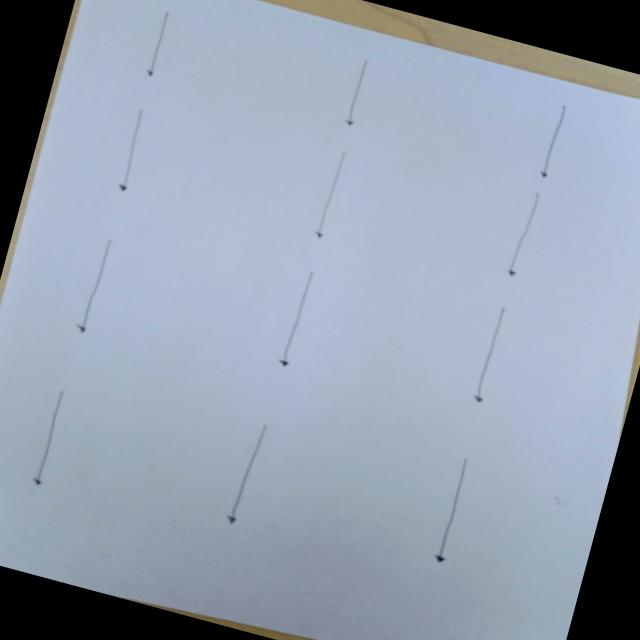arrow_line_down: (418, 455, 488, 575), (266, 270, 331, 376), (218, 424, 276, 536), (463, 302, 522, 412), (66, 233, 125, 341), (22, 382, 73, 492), (308, 154, 360, 246), (530, 96, 582, 188), (110, 106, 160, 198), (500, 192, 550, 283), (330, 54, 380, 138), (132, 8, 182, 86)
